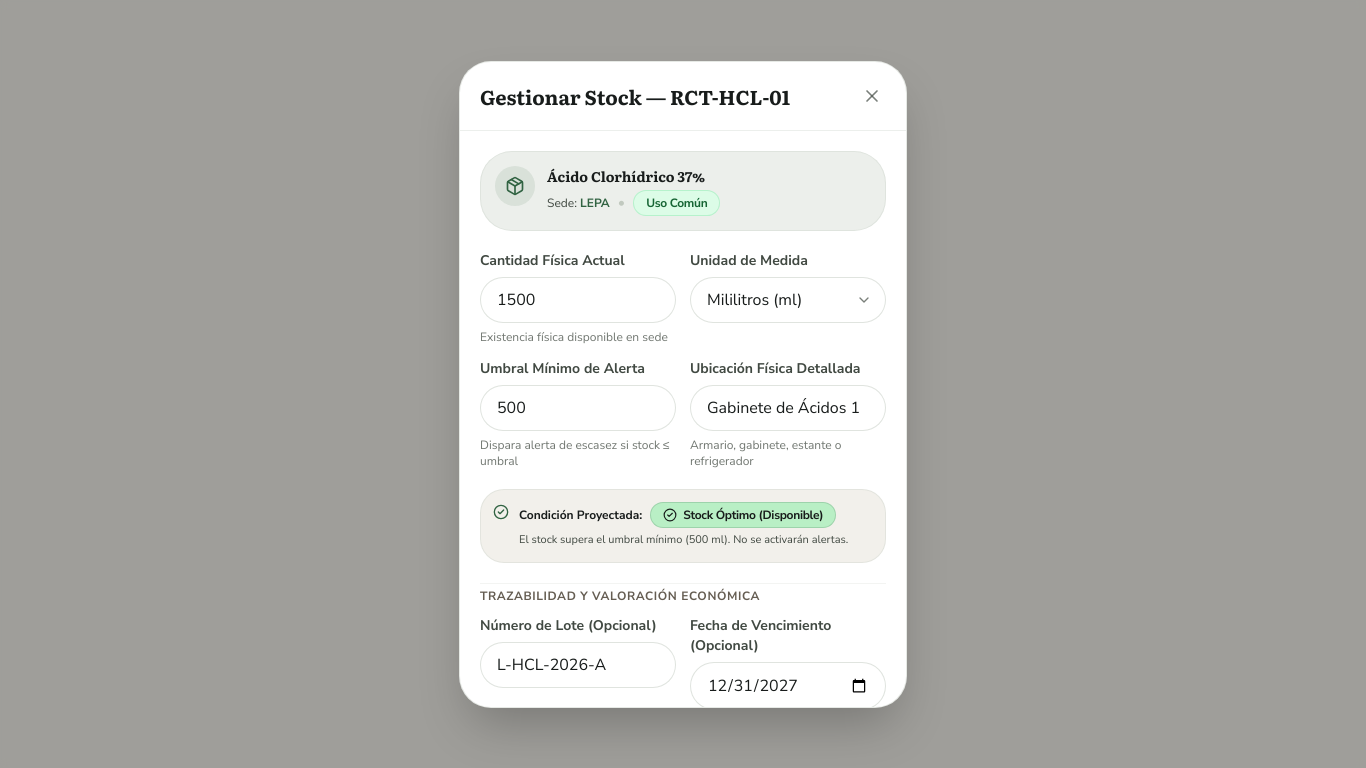
Test: StockModal Component › projects stock status condition in real-time as user types (HU07)
Check: the text "Stock Óptimo (Disponible)" is shown, box left=683, top=506, right=823, bottom=522
Replace the text in the number field labelled "Cantidad Física Actual" with "200" at (578, 300), box left=480, top=276, right=676, bottom=322
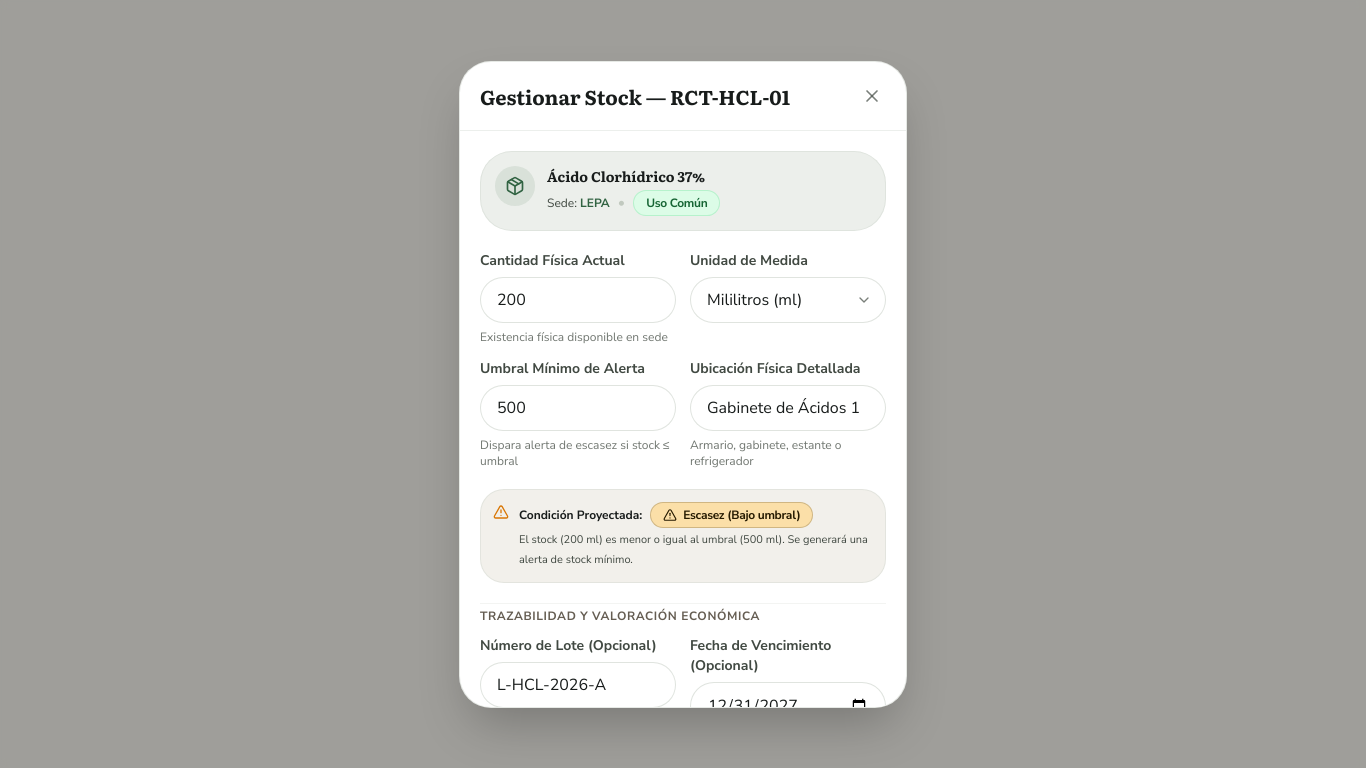
Check: the text "Escasez (Bajo umbral)" is shown, box left=683, top=506, right=800, bottom=522
Replace the text in the number field labelled "Cantidad Física Actual" with "0" at (578, 300), box left=480, top=276, right=676, bottom=322
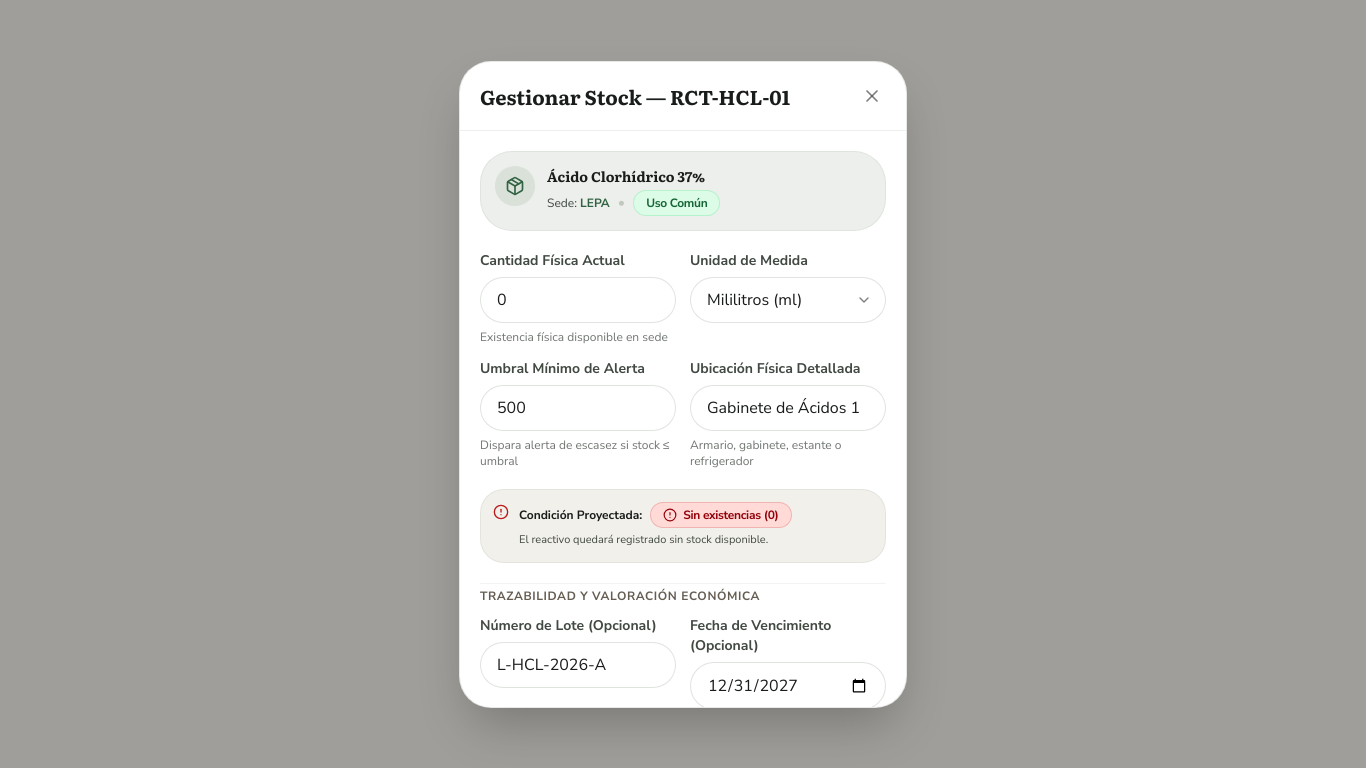
Check: the text "Sin existencias (0)" is shown, box left=683, top=506, right=778, bottom=522
